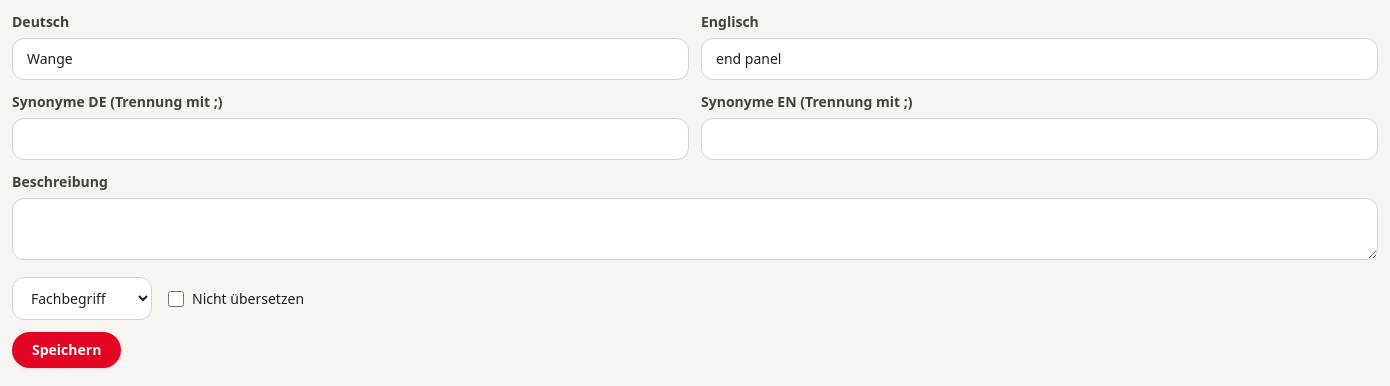
EntryForm › disables the English field for "do not translate" entries
The image size is (1390, 386).
What coordinates should you click on to do the following:
click the checkbox labelled "Nicht übersetzen"
I would click on:
 (176, 298)
Its box is [168,290,184,306].
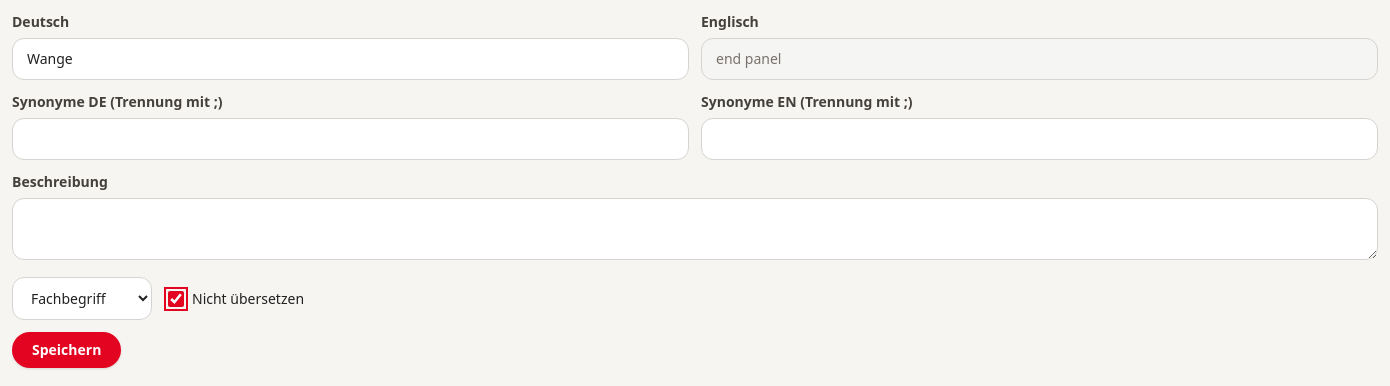
Expected: the field labelled "Englisch" is disabled, [701,38,1378,80]
